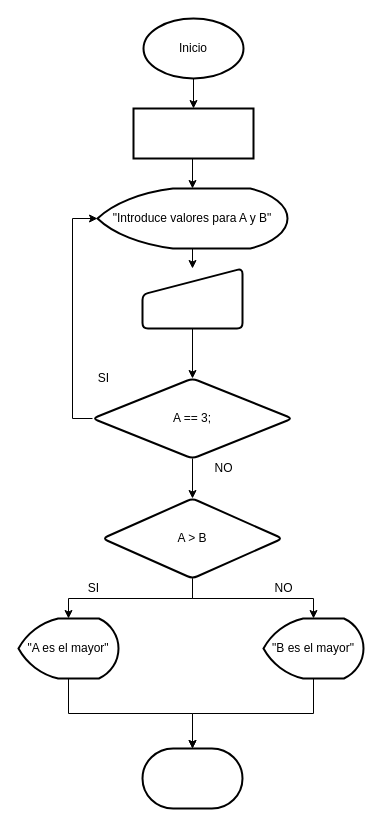
Some shapes in this 381 by 826 pixel diagram are drawn without their labels. Here are the shapes that lost their labels. From the top down, the centre of each, then its label:
point (193, 133): A = 0; B = 0;
point (192, 298): A; B;
point (192, 778): Fin
